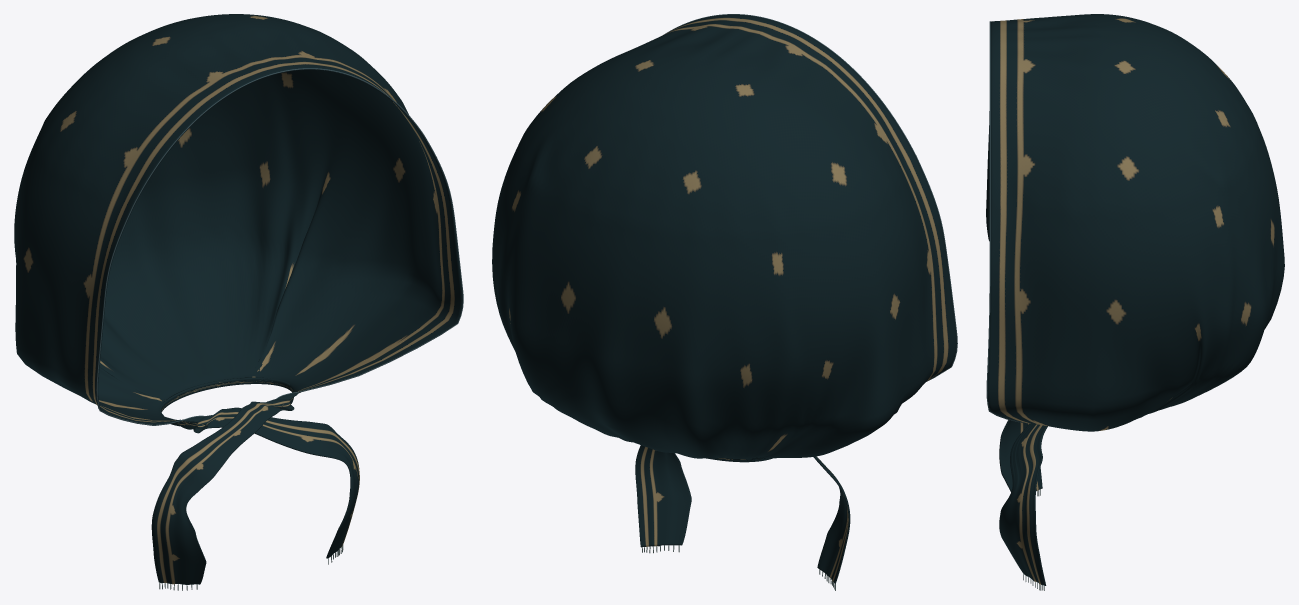
Rendered from Feminine-sweatshirt-pashmina246-headgear.glb.
3 renders of one model, left to right at view 1: azimuth 30°, elevation 25°; view 2: azimuth 150°, elevation 25°; view 3: azimuth 270°, elevation 25°, orthographic. The views are drawn at different scales.
Visible parts, largest first — view 1: 226 headgear / Headwear / continuous woven pashmina239, 226 headgear / Headwear / face edge239; view 2: 226 headgear / Headwear / continuous woven pashmina239, 226 headgear / Headwear / face edge239; view 3: 226 headgear / Headwear / continuous woven pashmina239, 226 headgear / Headwear / face edge239.
Part boxes in pixels (left/top/right/bottom): 226 headgear / Headwear / continuous woven pashmina239: left=14, top=14, right=462, bottom=584; 226 headgear / Headwear / face edge239: left=96, top=68, right=463, bottom=425; 226 headgear / Headwear / continuous woven pashmina239: left=492, top=14, right=956, bottom=584; 226 headgear / Headwear / face edge239: left=664, top=14, right=957, bottom=381; 226 headgear / Headwear / continuous woven pashmina239: left=986, top=14, right=1284, bottom=585; 226 headgear / Headwear / face edge239: left=986, top=21, right=1026, bottom=423.
Size of the model in its own units: 1.02 by 1.35 by 0.7116.
3 materials, 1 textured.
